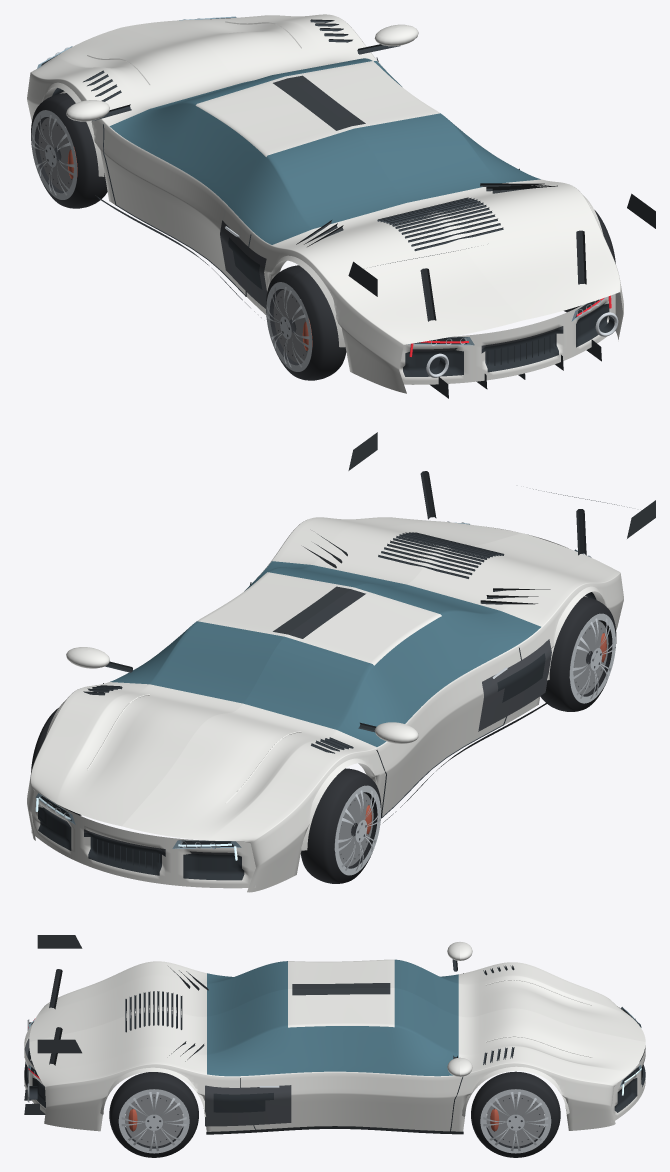
The model's file is titan_v12.glb.
3 renders of one model, top to bottom at view 1: azimuth 30°, elevation 25°; view 2: azimuth 150°, elevation 25°; view 3: azimuth 270°, elevation 25°, orthographic. The views are drawn at different scales.
Parts seen in each view (by area): view 1: Body, Wheel_2, Wheel_0; view 2: Body, Wheel_0, Wheel_2; view 3: Body, Wheel_1, Wheel_3.
Part boxes in pixels (left/top/right/bottom): Body: left=27, top=14, right=655, bottom=398; Wheel_2: left=266, top=265, right=346, bottom=380; Wheel_0: left=31, top=93, right=107, bottom=208; Body: left=27, top=432, right=655, bottom=892; Wheel_0: left=300, top=768, right=381, bottom=883; Wheel_2: left=540, top=596, right=616, bottom=711; Body: left=24, top=935, right=645, bottom=1134; Wheel_1: left=471, top=1071, right=560, bottom=1157; Wheel_3: left=109, top=1072, right=198, bottom=1157.
Bounding box in the file's own units: 2.56 × 1.07 × 5.29.
